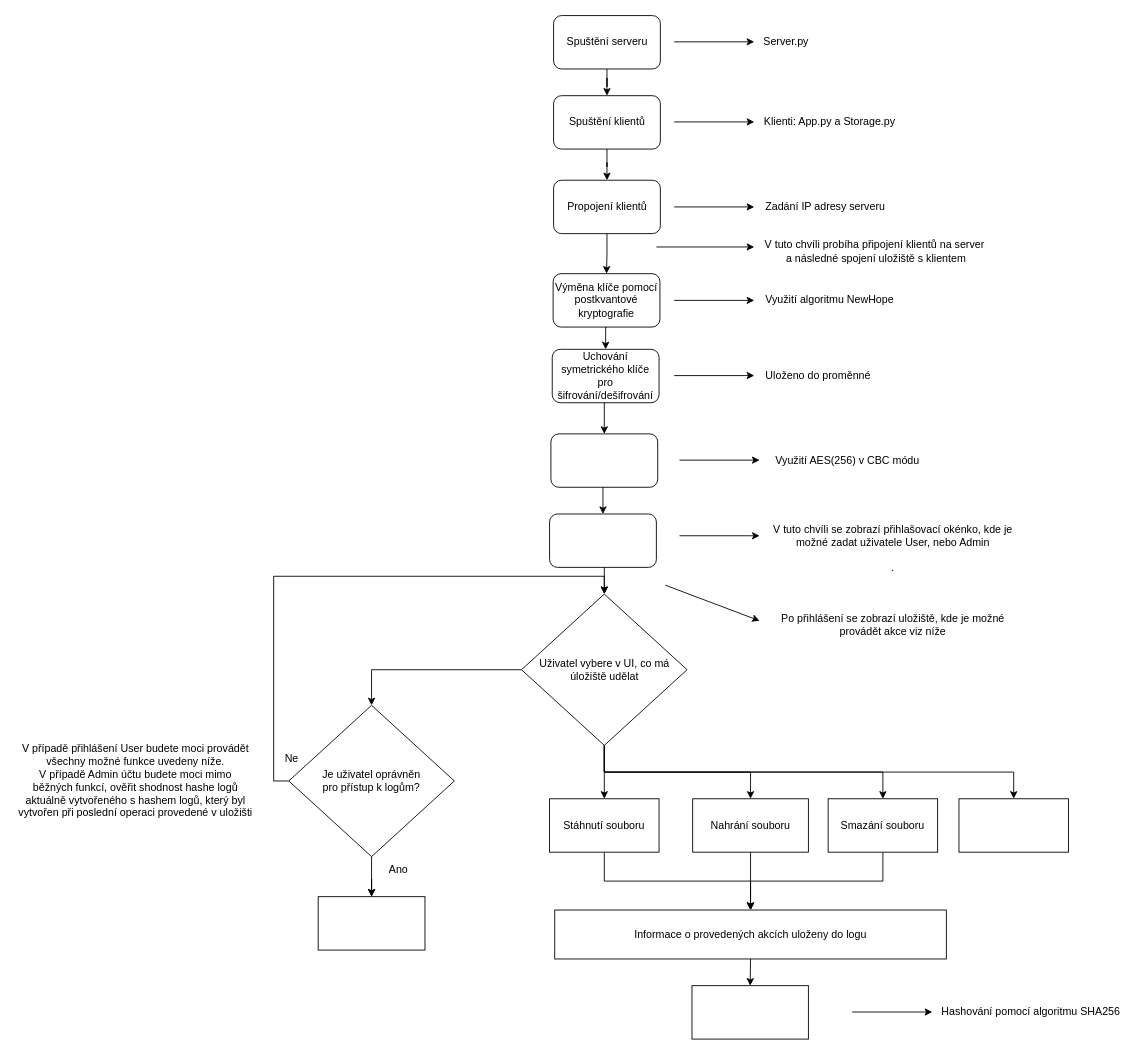
Some shapes in this 1139 by 1055 pixel diagram are drawn without their labels. The shapes that lost their labels are listed below. From the top down, each one's centre as x and y in pixels, then its label:
At point (604, 460): "Šifrování spojení pomocí symetrické kryptografie".
At point (602, 540): "Přihlášení uživatelů".
At point (1013, 825): "Info".
At point (371, 923): "Srovnání logů".
At point (749, 1012): "Hashování logů".
